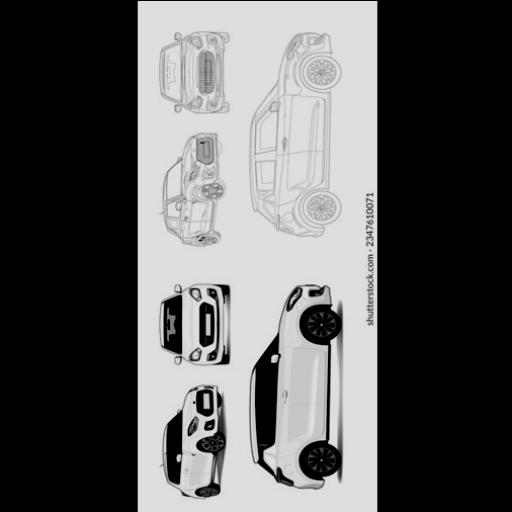hatchback: (250, 285, 341, 488), (250, 32, 340, 236), (163, 386, 225, 498), (163, 133, 225, 245), (160, 31, 228, 112), (160, 284, 228, 365)
